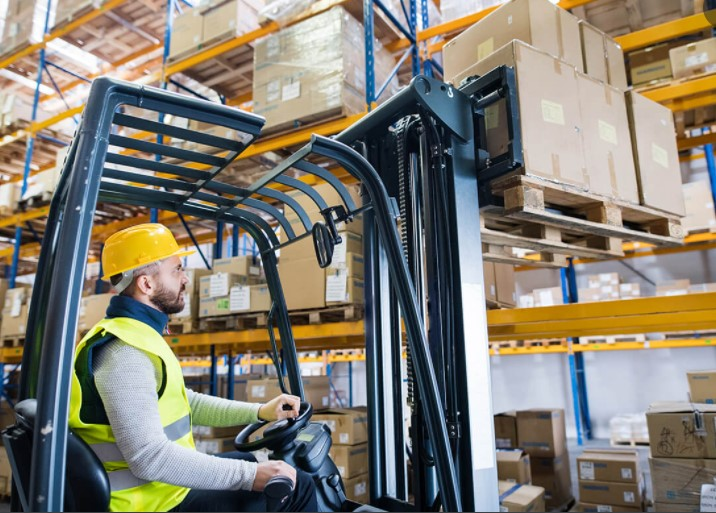worker: (70, 222, 197, 512)
